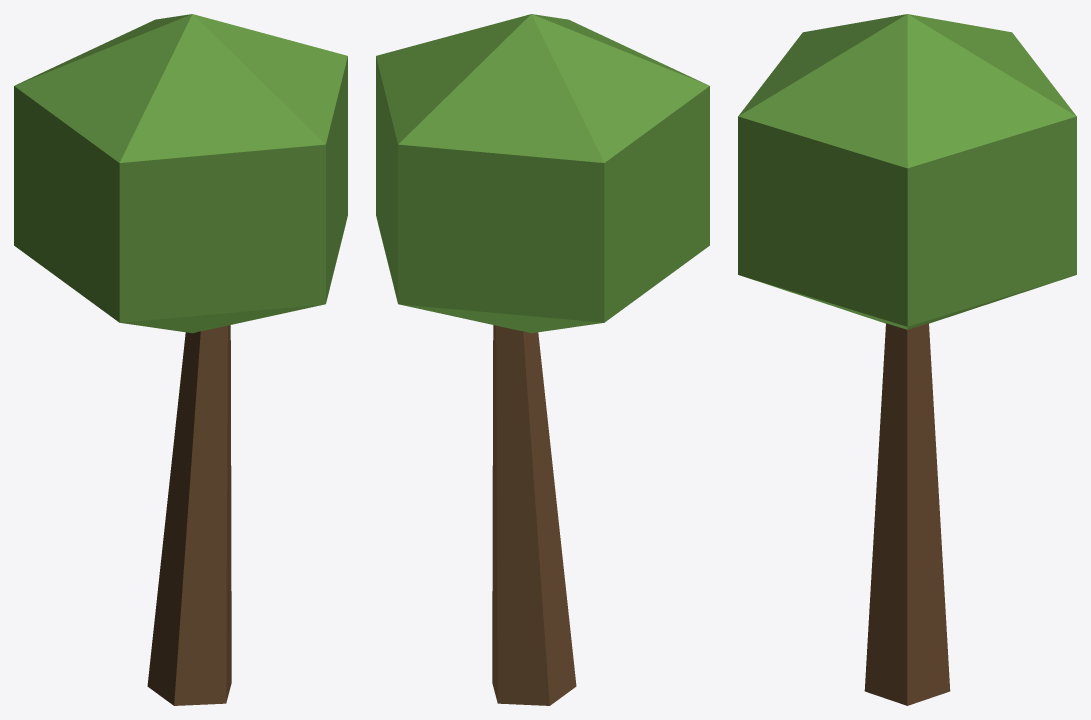
Rendered from tree_oak_lod2.obj.
3 renders of one model, left to right at view 1: azimuth 30°, elevation 25°; view 2: azimuth 150°, elevation 25°; view 3: azimuth 270°, elevation 25°, orthographic.
Parts seen in each view (by area): view 1: tree_oak_lod2; view 2: tree_oak_lod2; view 3: tree_oak_lod2.
Boxes of the visible parts, x1=… form: tree_oak_lod2: x1=14, y1=14, x2=347, y2=705; tree_oak_lod2: x1=376, y1=14, x2=709, y2=705; tree_oak_lod2: x1=738, y1=14, x2=1076, y2=705.
Bounding box in the file's own units: 2.51 × 5.78 × 2.64.
1 material, 1 textured.
